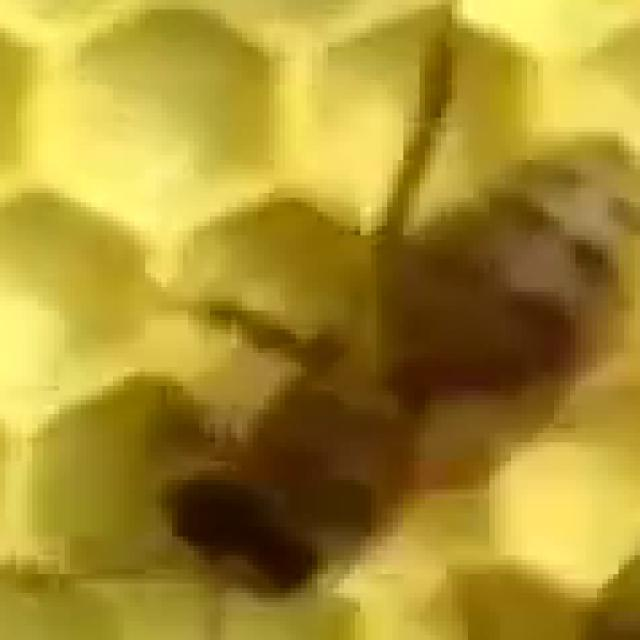honeybee: (187, 134, 618, 596)
